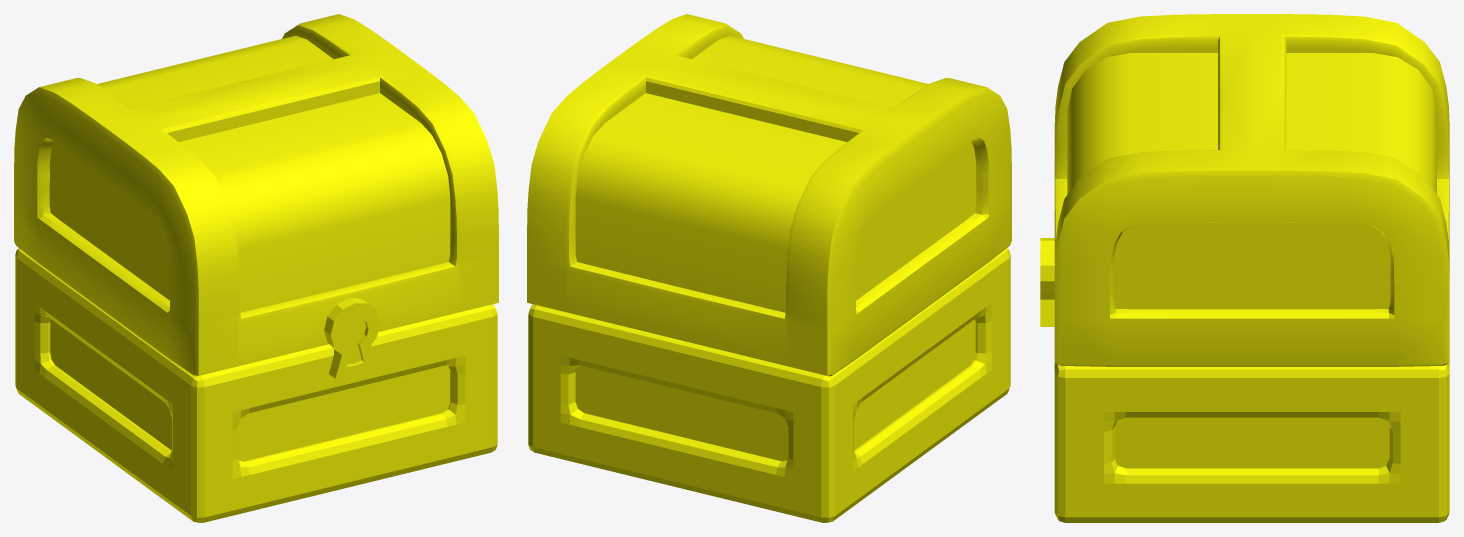
File: Chest_Closed.glb
3 views of the same model, side by side, from view 1: azimuth 30°, elevation 25°; view 2: azimuth 150°, elevation 25°; view 3: azimuth 270°, elevation 25° (orthographic). The views are drawn at different scales.
Parts seen in each view (by area): view 1: Chest_Closed; view 2: Chest_Closed; view 3: Chest_Closed.
Boxes of the visible parts, x1=… form: Chest_Closed: x1=14, y1=14, x2=498, y2=522; Chest_Closed: x1=527, y1=14, x2=1011, y2=522; Chest_Closed: x1=1040, y1=14, x2=1449, y2=522.
Size of the model in its own units: 1.84 by 1.91 by 1.99.
Materials: 1 (1 with a texture image).
